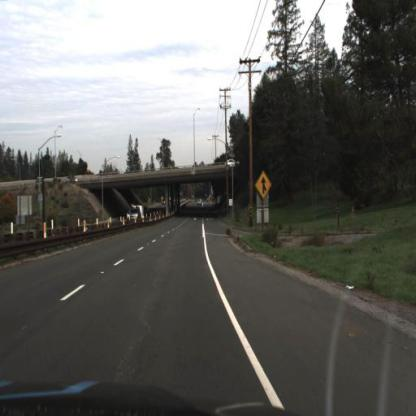car: (124, 206, 144, 222), (125, 206, 143, 222), (67, 172, 85, 186)
